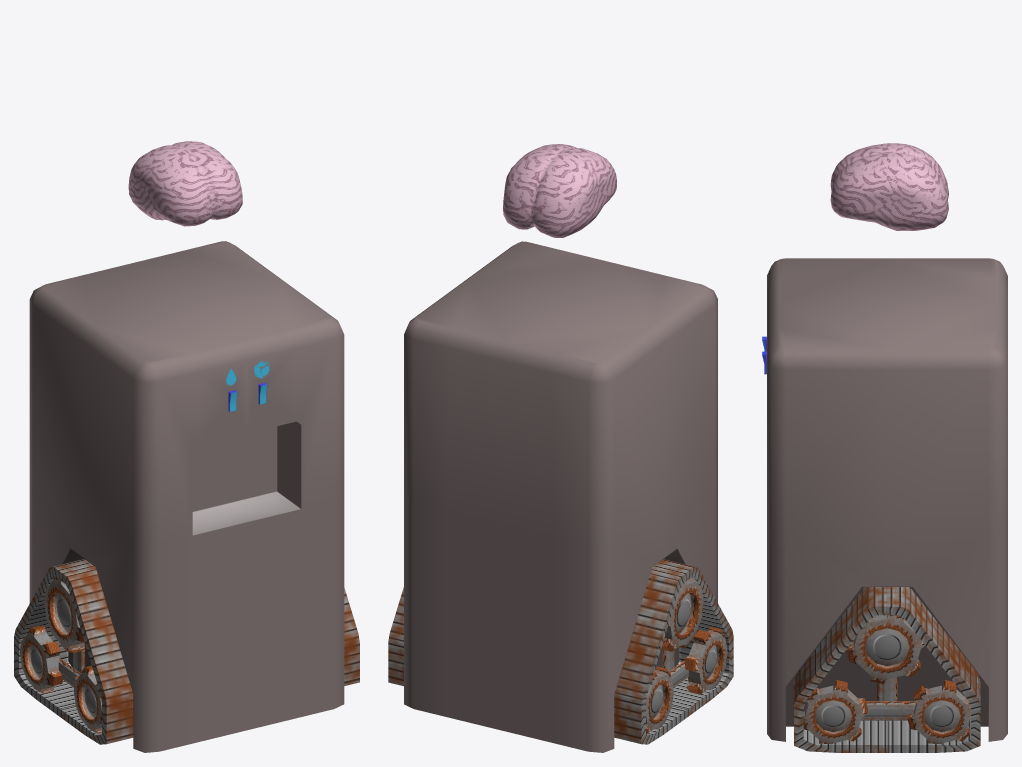
The model's file is Sentient_Cooler.FBX.
3 views of the same model, side by side, from view 1: azimuth 30°, elevation 25°; view 2: azimuth 150°, elevation 25°; view 3: azimuth 270°, elevation 25° (orthographic).
Visible parts, largest first — view 1: Box001; view 2: Box001; view 3: Box001.
Boxes of the visible parts, <box> form: Box001: <box>14,141,359,752</box>; Box001: <box>388,144,733,752</box>; Box001: <box>762,143,1007,752</box>.
Size of the model in its own units: 38.24 by 89.39 by 31.5.
